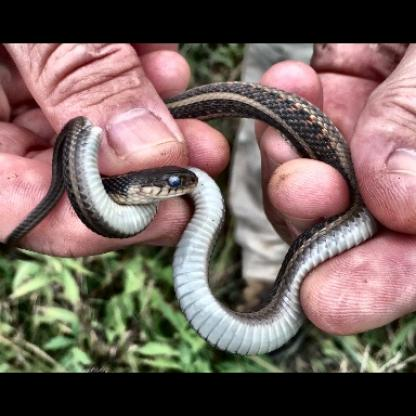Snake: (48, 76, 384, 360), (60, 110, 200, 243)
